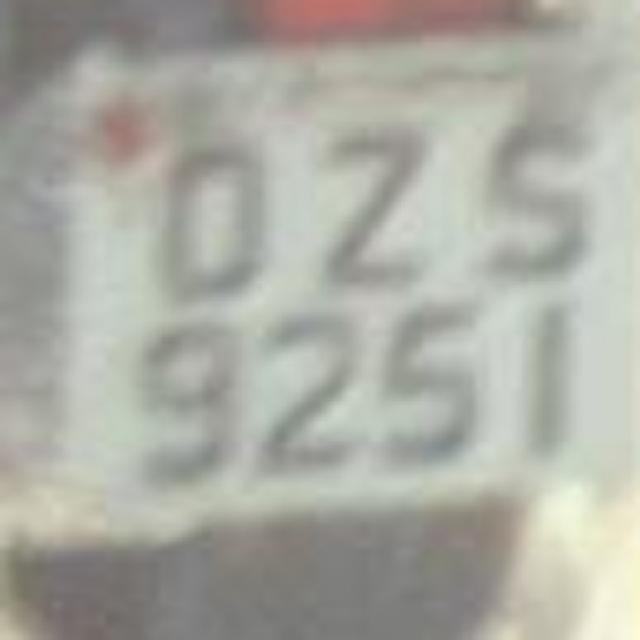1: (480, 284, 600, 488)
2: (224, 288, 384, 492)
5: (349, 288, 496, 484)
9: (100, 276, 252, 492)
O: (136, 111, 292, 304)
S: (464, 120, 608, 285)
Z: (295, 112, 460, 292)
